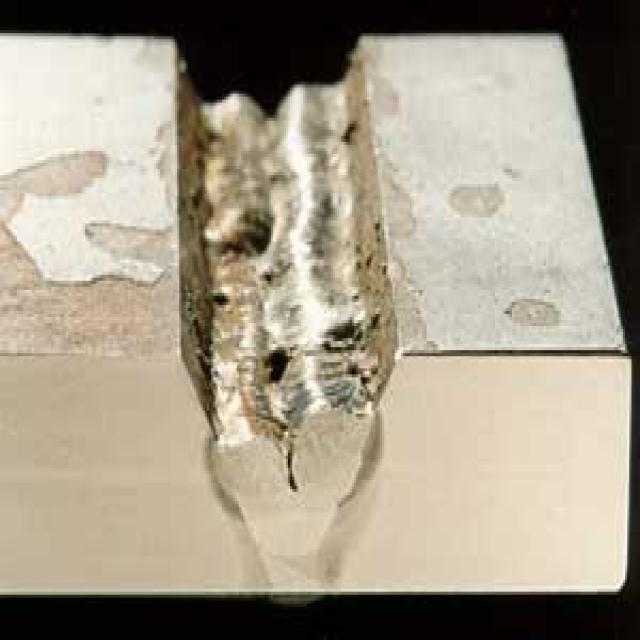Bad Welding: (168, 39, 410, 595)
Porosity: (262, 338, 294, 384)
